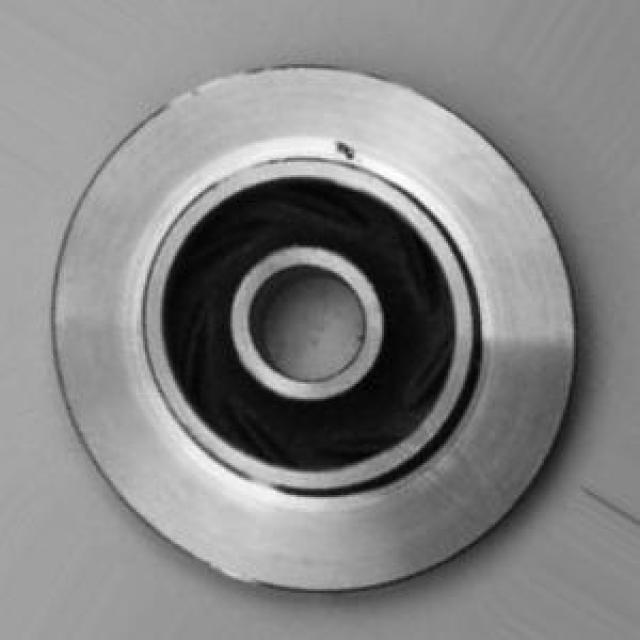Defect: (322, 127, 376, 179)
